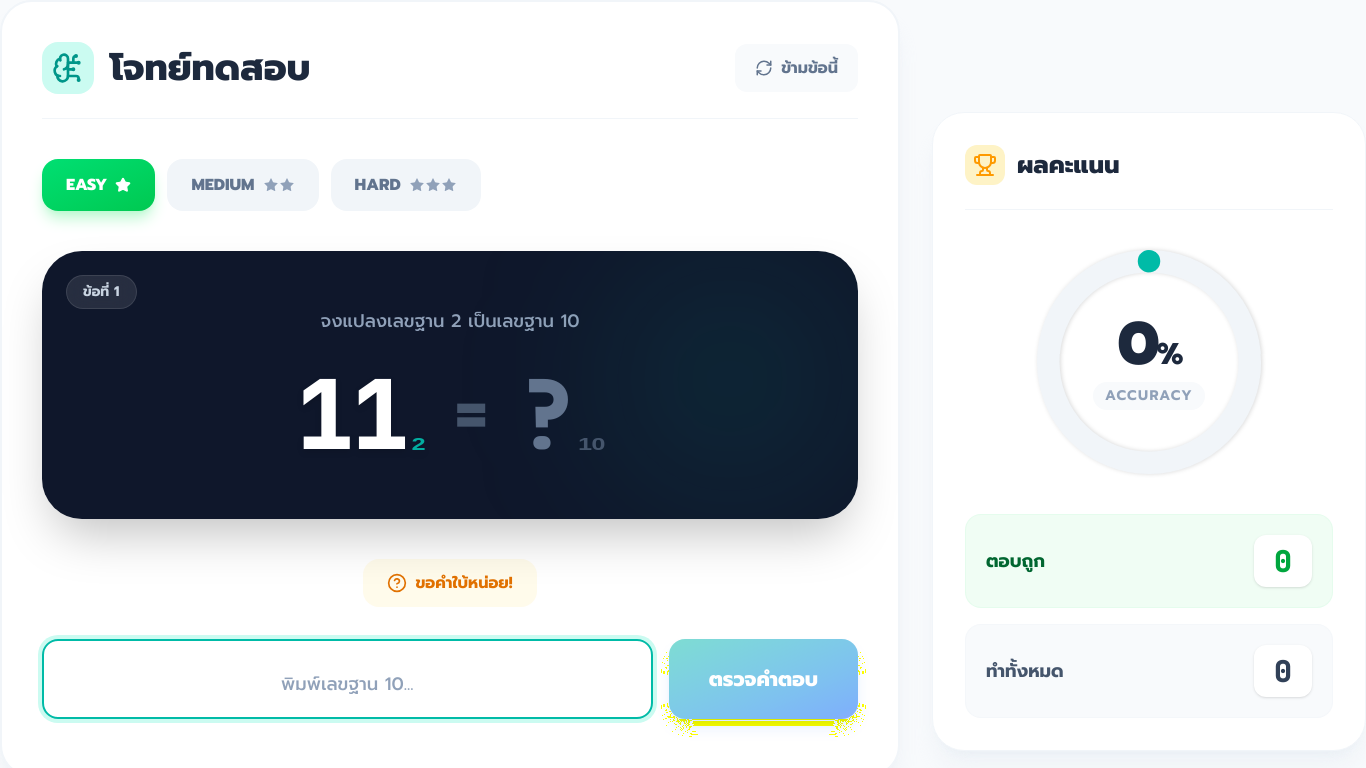
Test case: Quiz Page › toggles hints
// Click hint
Click the button "ขอคำใบ้หน่อย!" at (450, 583), box [363,559,537,607]
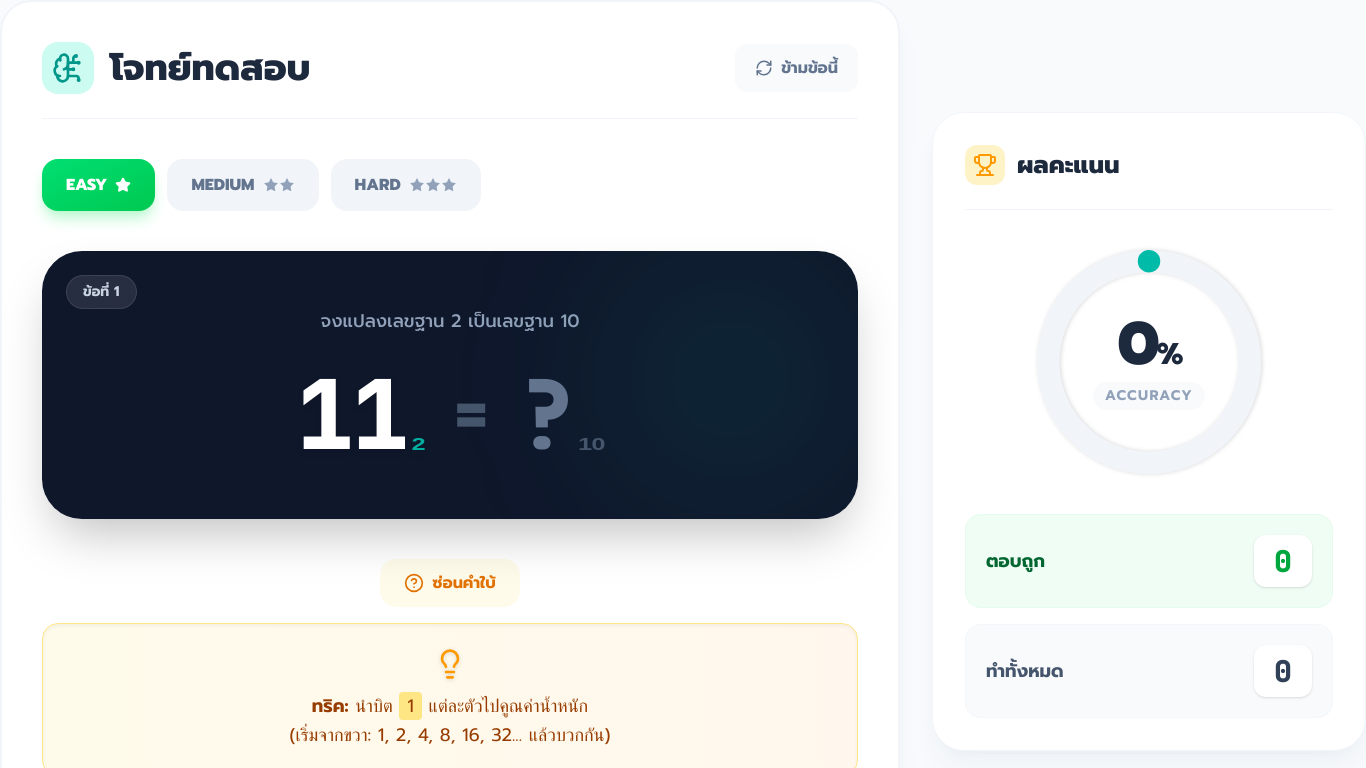
expect the text "ทริค:" is shown: met, box [312,692,349,720]
expect the button "ซ่อนคำใบ้" is shown: met, box [380,559,520,607]
